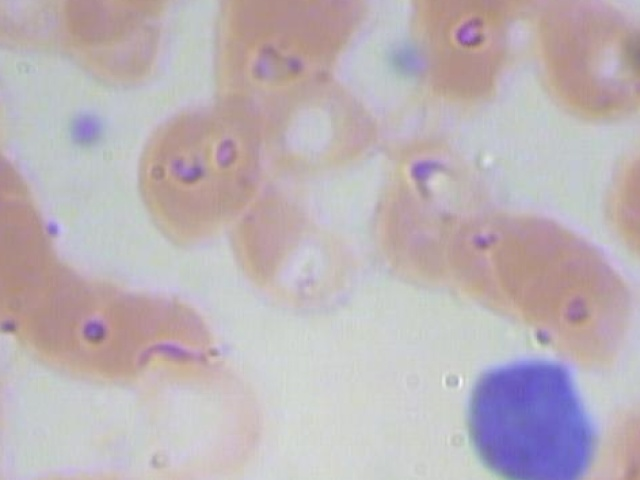Platelets: (64, 102, 112, 155), (380, 29, 428, 82)
RBC: (126, 95, 274, 261), (233, 193, 363, 332), (106, 259, 235, 399), (514, 0, 640, 131), (469, 199, 597, 326), (405, 182, 533, 309), (518, 250, 640, 376), (32, 255, 142, 391), (0, 243, 109, 379), (396, 0, 524, 113), (255, 71, 382, 182), (60, 0, 188, 93), (0, 203, 66, 339), (572, 1, 640, 112), (0, 135, 41, 270), (611, 116, 640, 281), (84, 461, 222, 480), (535, 457, 640, 480), (615, 386, 640, 480), (0, 359, 10, 480), (4, 475, 139, 480), (615, 457, 640, 480), (636, 219, 640, 344), (0, 49, 3, 182)
WBC: (436, 349, 598, 480)
